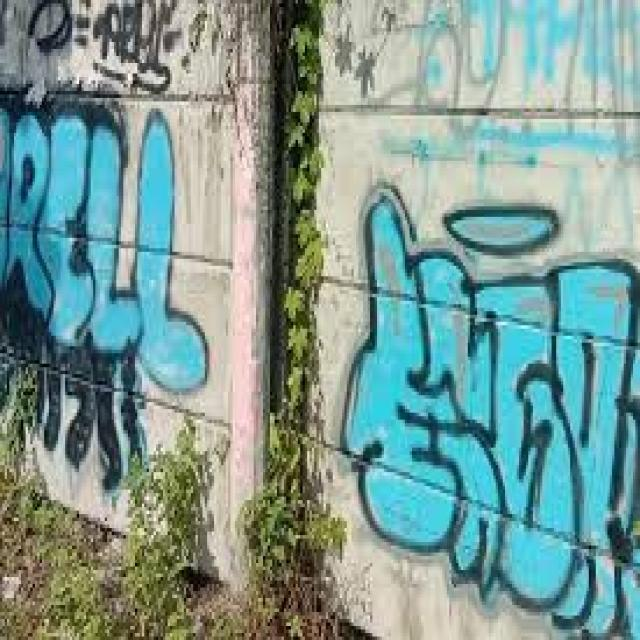-: (341, 183, 638, 640), (0, 87, 210, 496), (385, 0, 640, 176), (30, 0, 183, 97), (334, 9, 395, 97)
